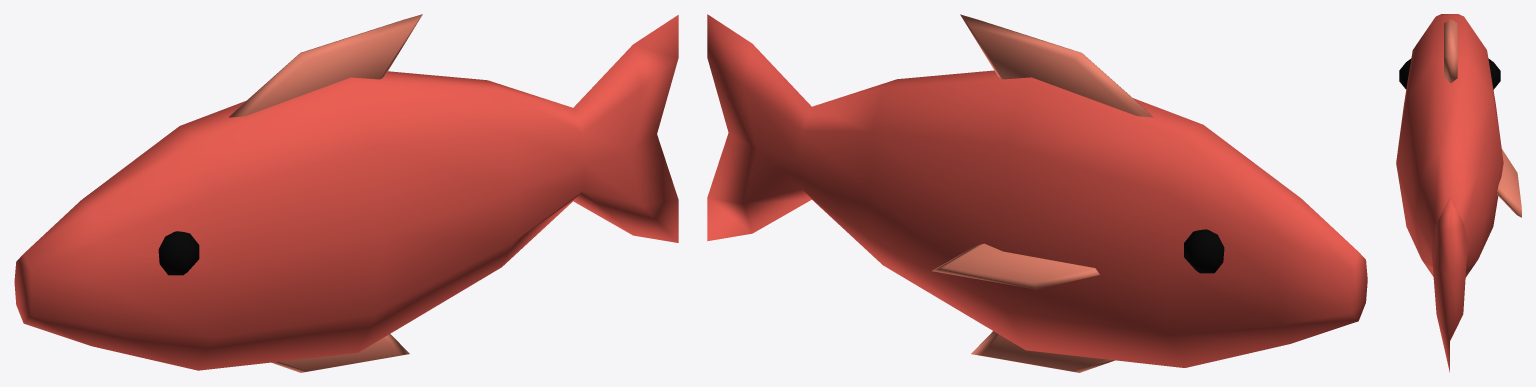
The model's file is Fish.gltf.
3 views of the same model, side by side, from view 1: azimuth 30°, elevation 25°; view 2: azimuth 150°, elevation 25°; view 3: azimuth 270°, elevation 25° (orthographic). The views are drawn at different scales.
Visible parts, largest first — view 1: Sphere, Plane, Plane.001, Sphere.001; view 2: Sphere, Plane, Plane.002, Plane.001, Sphere.001; view 3: Sphere, Plane.002, Plane, Sphere.001.
Boxes of the visible parts, box(x1,y1,x2,y2) form: Sphere: box(14, 15, 678, 370); Plane: box(228, 14, 422, 117); Plane.001: box(272, 334, 409, 372); Sphere.001: box(158, 231, 199, 275); Sphere: box(707, 14, 1367, 367); Plane: box(960, 14, 1153, 117); Plane.002: box(932, 243, 1099, 289); Plane.001: box(971, 331, 1114, 372); Sphere.001: box(1184, 229, 1224, 273); Sphere: box(1396, 14, 1503, 372); Plane.002: box(1497, 149, 1521, 217); Plane: box(1444, 19, 1457, 83); Sphere.001: box(1399, 58, 1500, 89).
Size of the model in its own units: 5.2 by 2.57 by 1.14.
